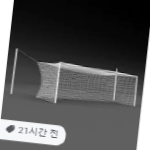goals: (35, 58, 139, 108)
